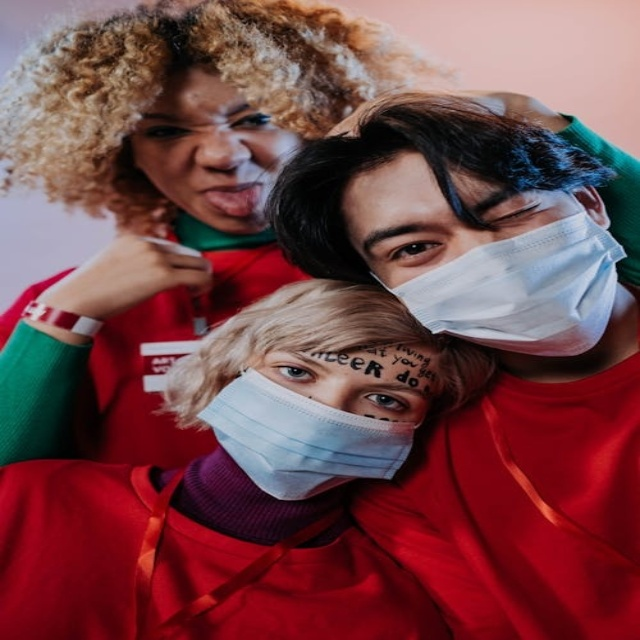Mascara: (373, 193, 628, 357), (195, 368, 424, 500)
Sin_gafas: (366, 186, 550, 268), (273, 348, 426, 412), (145, 99, 250, 143)
Sin_guantes: (49, 230, 216, 317)
Sin_mascara: (174, 176, 265, 228)
